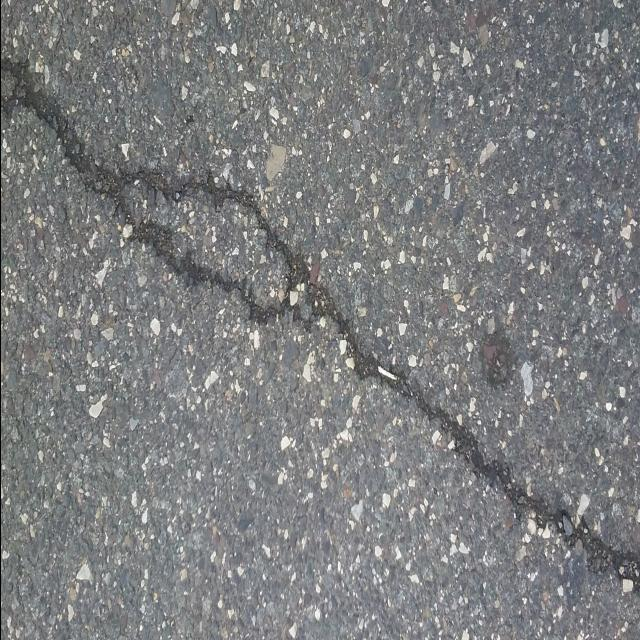Crack: (0, 45, 640, 598)
